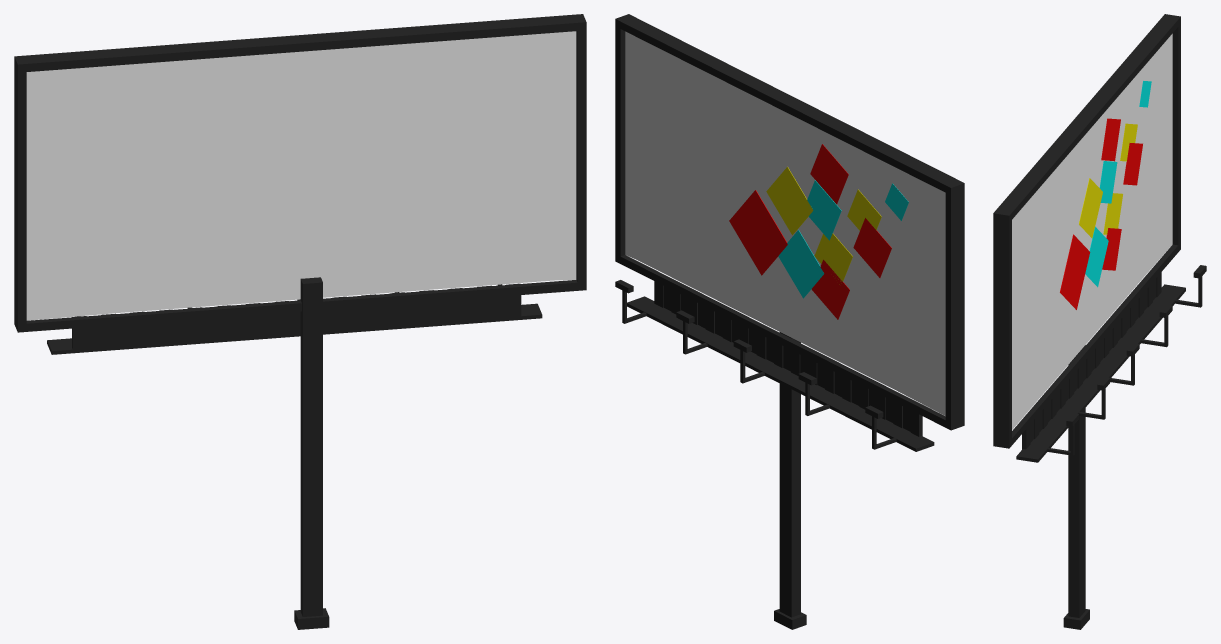
The model's file is Billboard.glb.
3 views of the same model, side by side, from view 1: azimuth 30°, elevation 25°; view 2: azimuth 150°, elevation 25°; view 3: azimuth 270°, elevation 25° (orthographic). The views are drawn at different scales.
Parts seen in each view (by area): view 1: Object002, Box053, Box055, Box052, Box054; view 2: Object002, Box053, Box055, Box052, Box054, Box058, Box063, Box040, Box066, Box060, Box047, Box059 (+2 smaller); view 3: Object002, Box053, Box054, Box052, Box055, Box058, Box063, Box040, Box066, Box060, Box059, Box047 (+3 smaller).
Boxes of the visible parts, bbox=[...] form: Object002: bbox=[26, 31, 576, 320]; Box053: bbox=[14, 14, 586, 332]; Box055: bbox=[72, 283, 521, 351]; Box052: bbox=[300, 277, 322, 616]; Box054: bbox=[47, 303, 542, 354]; Object002: bbox=[625, 31, 945, 415]; Box053: bbox=[615, 14, 964, 430]; Box055: bbox=[654, 281, 922, 436]; Box052: bbox=[779, 332, 800, 617]; Box054: bbox=[627, 296, 934, 451]; Box058: bbox=[729, 190, 787, 275]; Box063: bbox=[766, 167, 813, 235]; Box040: bbox=[778, 230, 824, 298]; Box066: bbox=[810, 144, 848, 204]; Box060: bbox=[853, 218, 891, 277]; Box047: bbox=[811, 259, 849, 319]; Box059: bbox=[807, 180, 841, 240]; Object002: bbox=[1012, 33, 1172, 429]; Box053: bbox=[993, 14, 1180, 448]; Box054: bbox=[1016, 284, 1185, 462]; Box052: bbox=[1068, 345, 1085, 617]; Box055: bbox=[1022, 272, 1161, 449]; Box058: bbox=[1060, 234, 1090, 309]; Box063: bbox=[1079, 178, 1102, 238]; Box040: bbox=[1085, 226, 1108, 287]; Box066: bbox=[1101, 118, 1120, 161]; Box060: bbox=[1123, 143, 1142, 185]; Box059: bbox=[1099, 161, 1117, 203]; Box047: bbox=[1102, 228, 1121, 270].
Size of the model in its own units: 336246 by 393217 by 150342.
